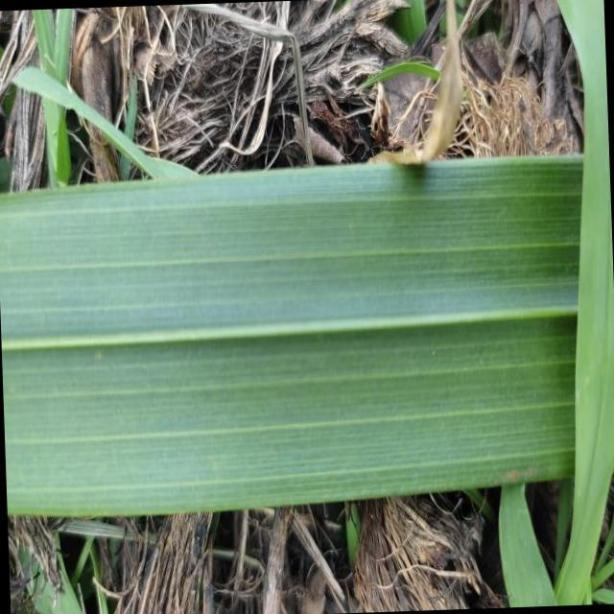Healthy: (5, 156, 614, 516)
